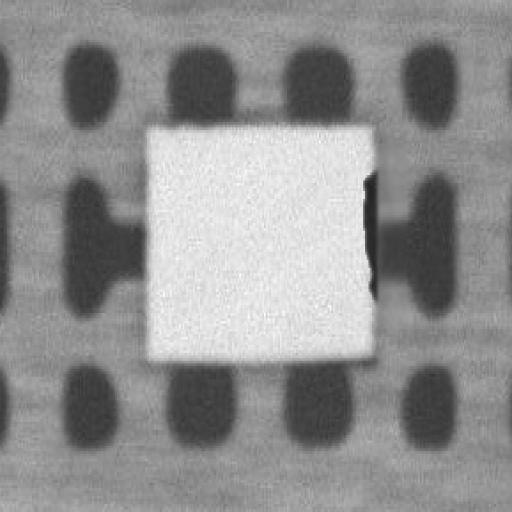DIE_BROKEN: (356, 156, 379, 300)
